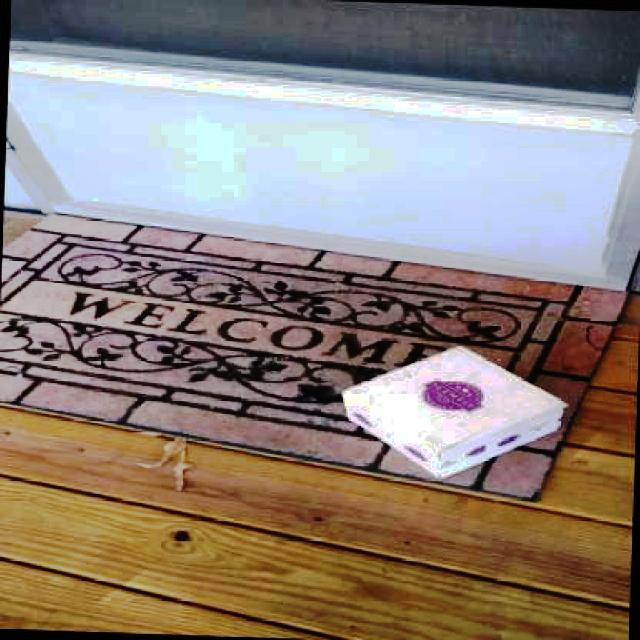Box: (341, 342, 568, 484)
